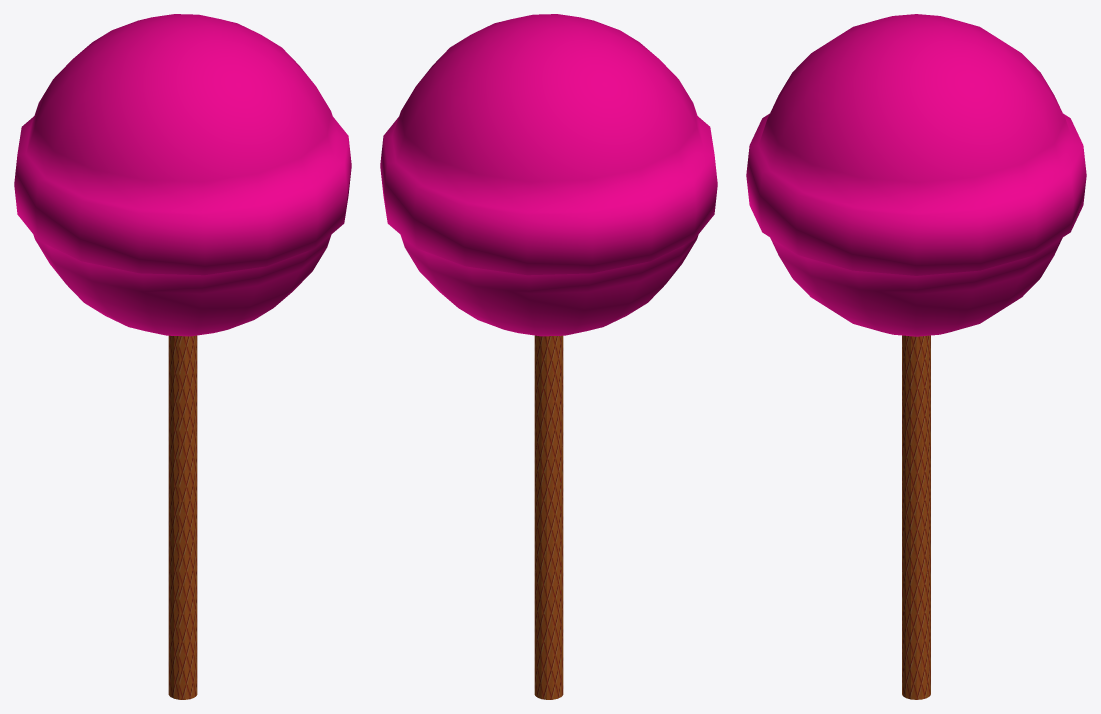
The model's file is AlberoLecca.fbx.
The picture shows the model from 3 angles, left to right: view 1: azimuth 30°, elevation 25°; view 2: azimuth 150°, elevation 25°; view 3: azimuth 270°, elevation 25°; orthographic projection.
Parts seen in each view (by area): view 1: Lecca, Tronco; view 2: Lecca, Tronco; view 3: Lecca, Tronco.
Part boxes in pixels (box(x1,y1,x2,y2)): Lecca: box(14, 14, 351, 336); Tronco: box(168, 335, 197, 699); Lecca: box(380, 14, 717, 336); Tronco: box(534, 335, 563, 699); Lecca: box(746, 14, 1086, 336); Tronco: box(902, 335, 930, 699).
Size of the model in its own units: 843 by 1817 by 843.
